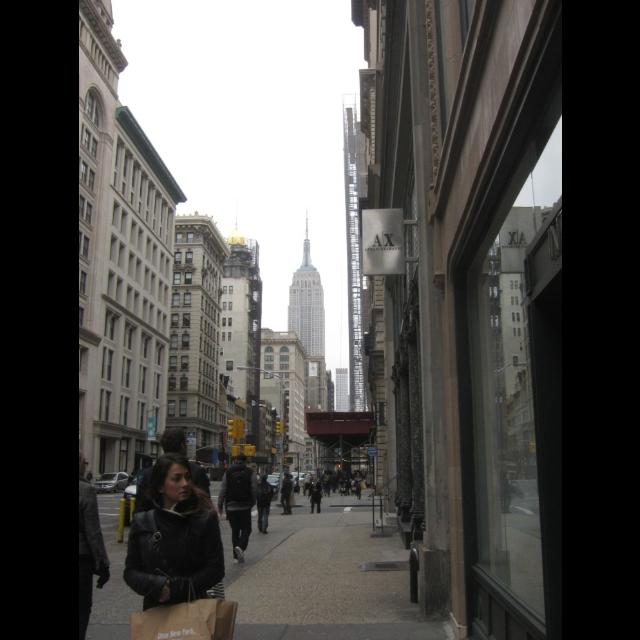head: (154, 454, 192, 502), (160, 428, 188, 458), (78, 450, 89, 478), (234, 454, 248, 466), (260, 473, 268, 482), (283, 472, 289, 478), (288, 474, 294, 480), (312, 477, 318, 483), (356, 472, 360, 478), (344, 472, 350, 476), (306, 472, 312, 476), (130, 472, 136, 476), (333, 473, 337, 477), (326, 472, 329, 474)
person: (132, 426, 214, 632), (218, 452, 258, 566), (254, 472, 274, 536), (278, 470, 294, 516), (306, 475, 324, 515), (284, 474, 296, 514), (352, 471, 366, 501), (125, 469, 137, 501), (302, 472, 314, 496), (341, 471, 352, 497), (323, 470, 332, 498), (330, 472, 338, 494)
